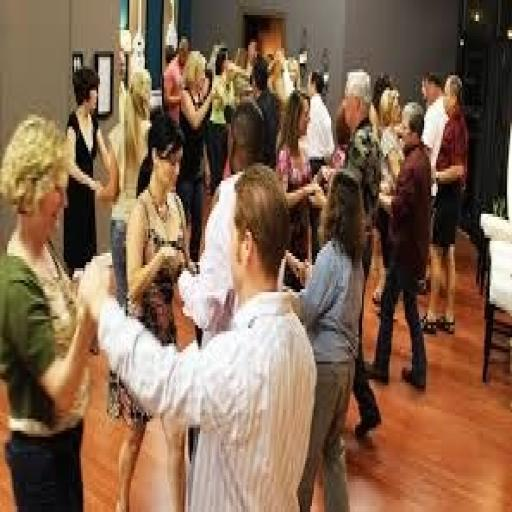dancing: (207, 52, 460, 434), (76, 160, 320, 509), (70, 28, 287, 295)
